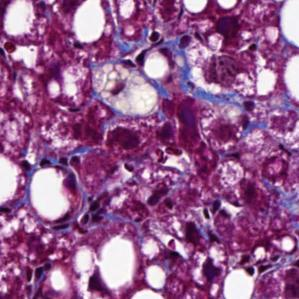ballooning: (89, 60, 161, 122), (26, 163, 83, 224)
